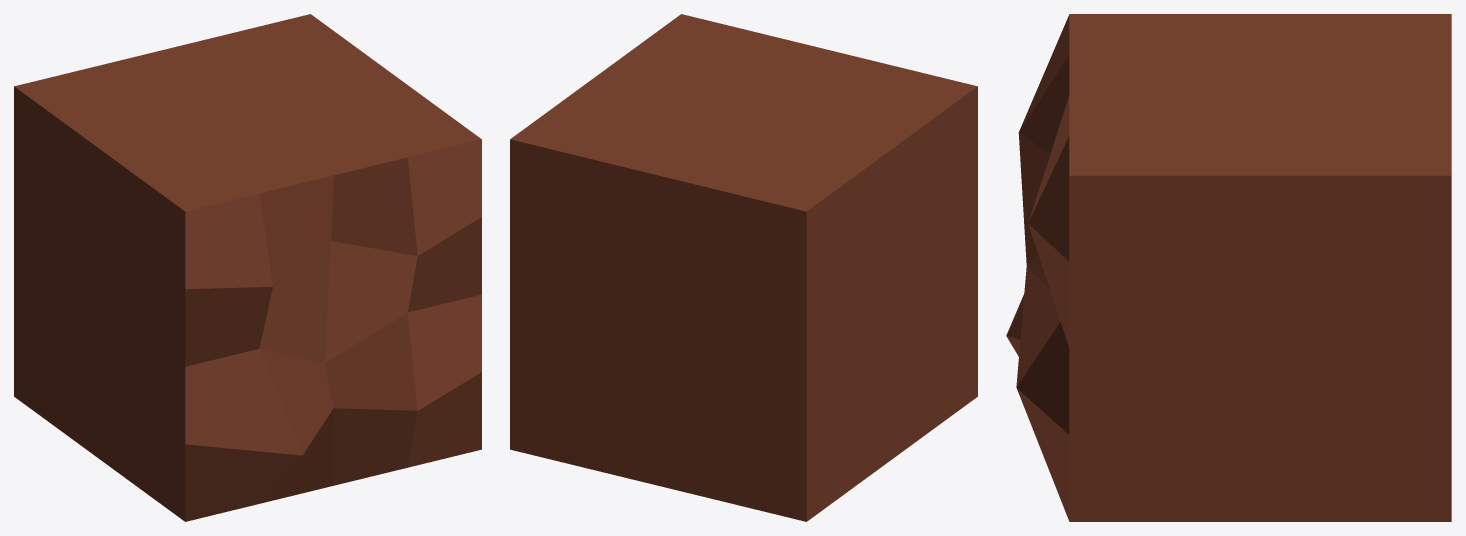
The model's file is MiddleFill.fbx.
3 views of the same model, side by side, from view 1: azimuth 30°, elevation 25°; view 2: azimuth 150°, elevation 25°; view 3: azimuth 270°, elevation 25° (orthographic). The views are drawn at different scales.
Parts seen in each view (by area): view 1: Cube.004; view 2: Cube.004; view 3: Cube.004.
Part boxes in pixels (x1,y1,x2,y2): Cube.004: (14, 14, 481, 521); Cube.004: (510, 14, 977, 521); Cube.004: (1006, 14, 1451, 521).
Bounding box in the file's own units: 200 × 200 × 233.
